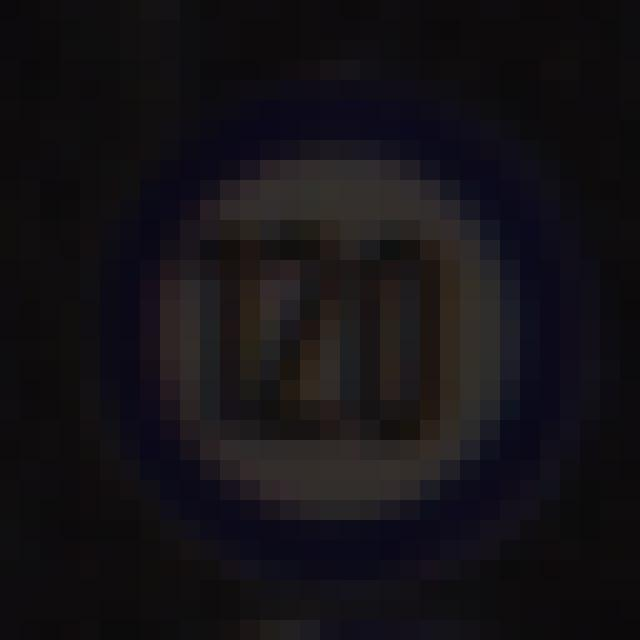SPEED LIMIT 120: (125, 120, 533, 526)
